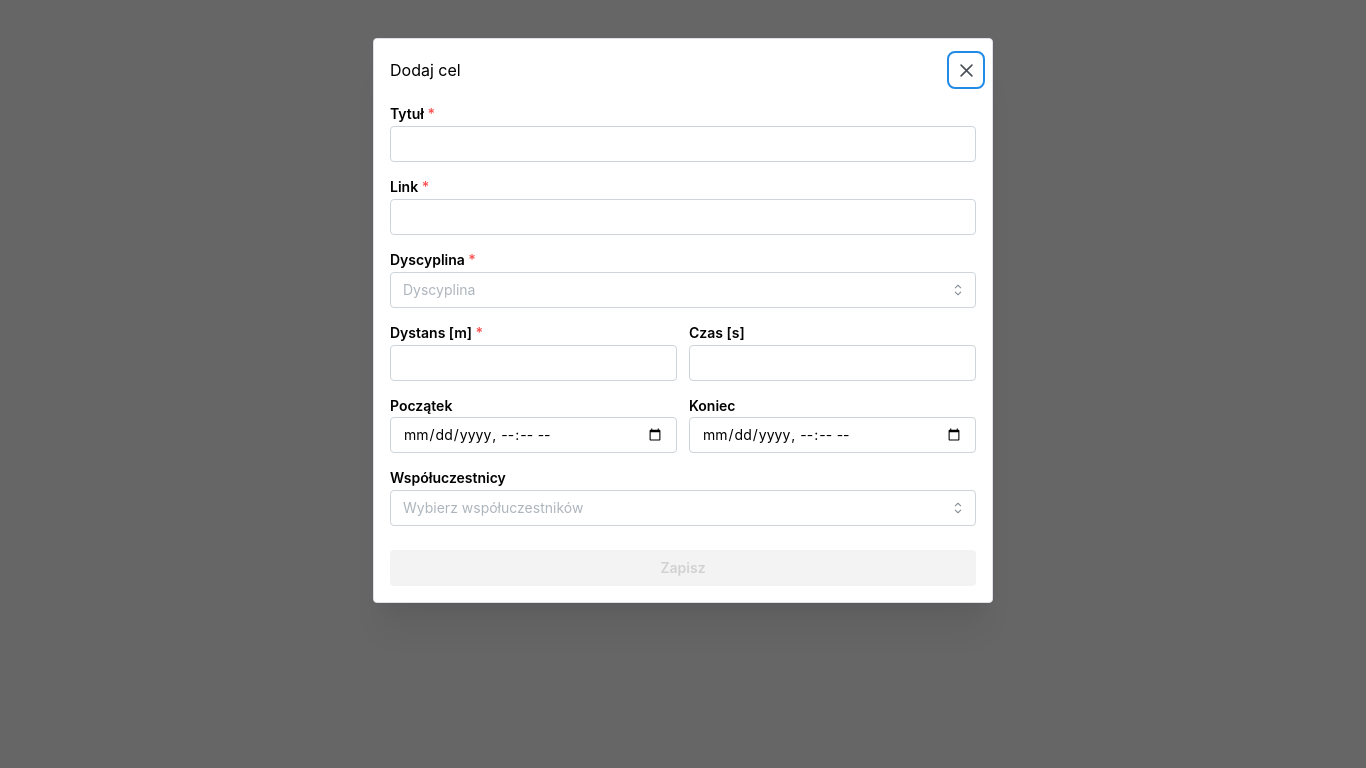
Scenario: GoalFormModal › requires a title, discipline and distance before enabling save
Later steps or results of the test are not shown.
expect the button "Zapisz" is disabled: met, box [390, 550, 976, 586]
Type "Nowy cel" into the field labelled "Tytuł" at (683, 144), box [390, 126, 976, 162]
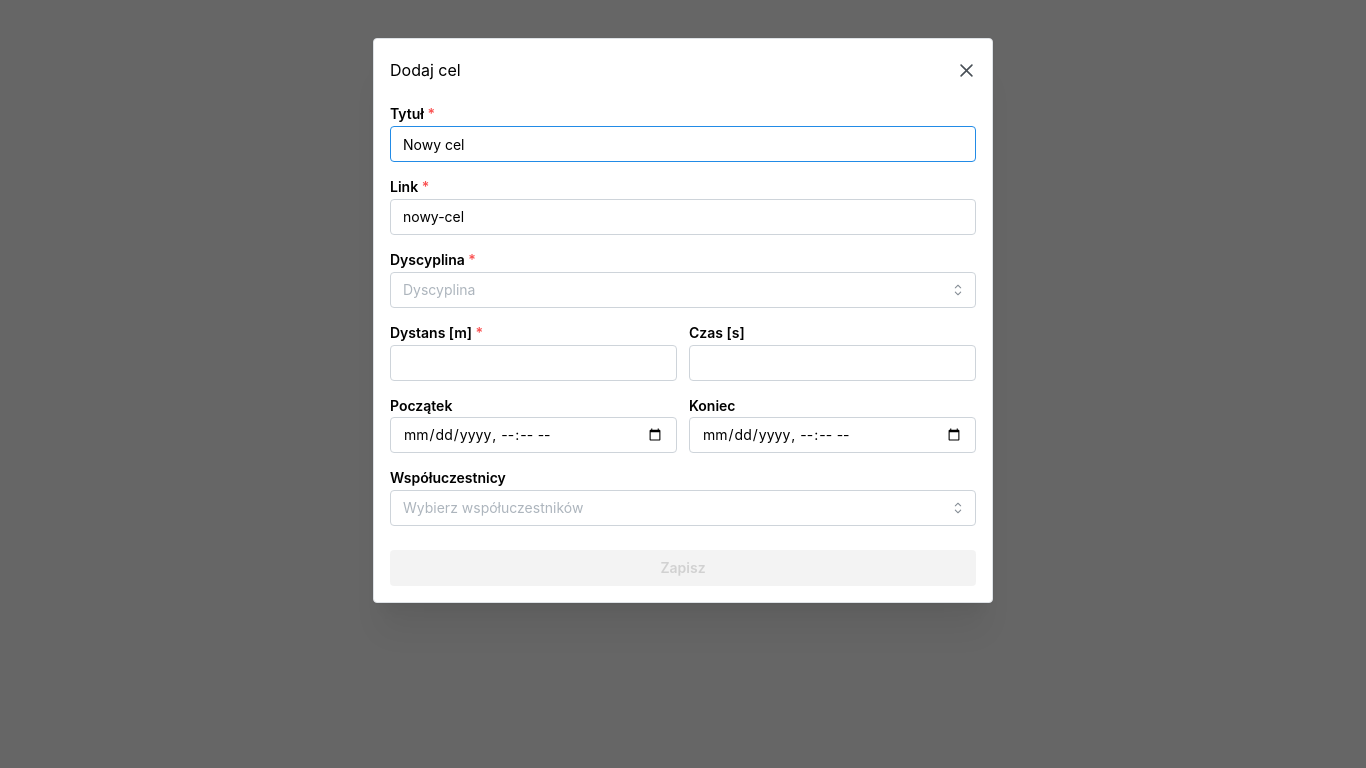
expect the button "Zapisz" is disabled: met, box [390, 550, 976, 586]
expect the field labelled "Link" holds "nowy-cel": met, box [390, 199, 976, 235]
